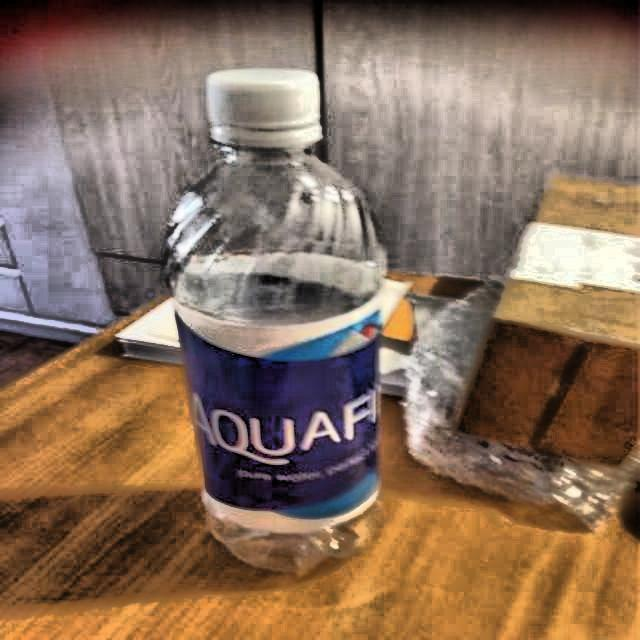Bottles: (166, 62, 384, 583)
